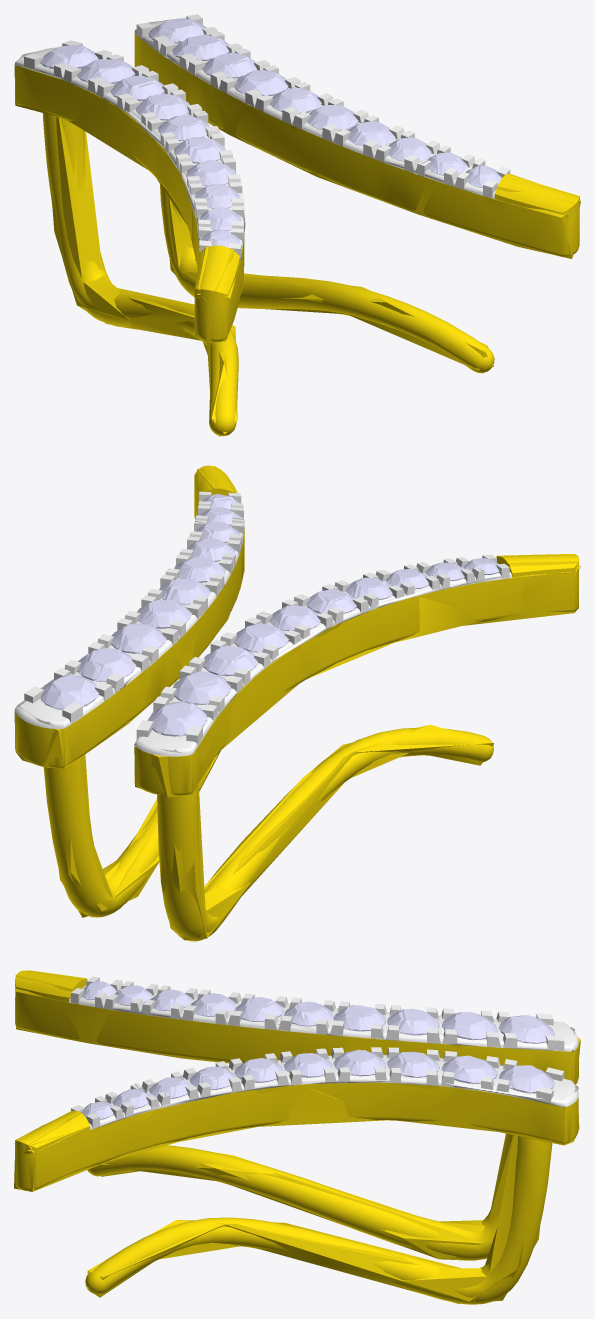
3 views of the same model, one above another, from view 1: azimuth 30°, elevation 25°; view 2: azimuth 150°, elevation 25°; view 3: azimuth 270°, elevation 25° (orthographic). The views are drawn at different scales.
Parts seen in each view (by area): view 1: highPolyMesh, lowPolyMesh; view 2: highPolyMesh, lowPolyMesh; view 3: highPolyMesh, lowPolyMesh.
Boxes of the visible parts, left/top/right/bottom form: highPolyMesh: left=14, top=14, right=579, bottom=436; lowPolyMesh: left=14, top=18, right=580, bottom=436; highPolyMesh: left=15, top=465, right=578, bottom=941; lowPolyMesh: left=14, top=466, right=580, bottom=940; highPolyMesh: left=15, top=970, right=578, bottom=1304; lowPolyMesh: left=14, top=970, right=580, bottom=1303.
Bounding box in the file's own units: 0.0128 × 0.00852 × 0.0175.
